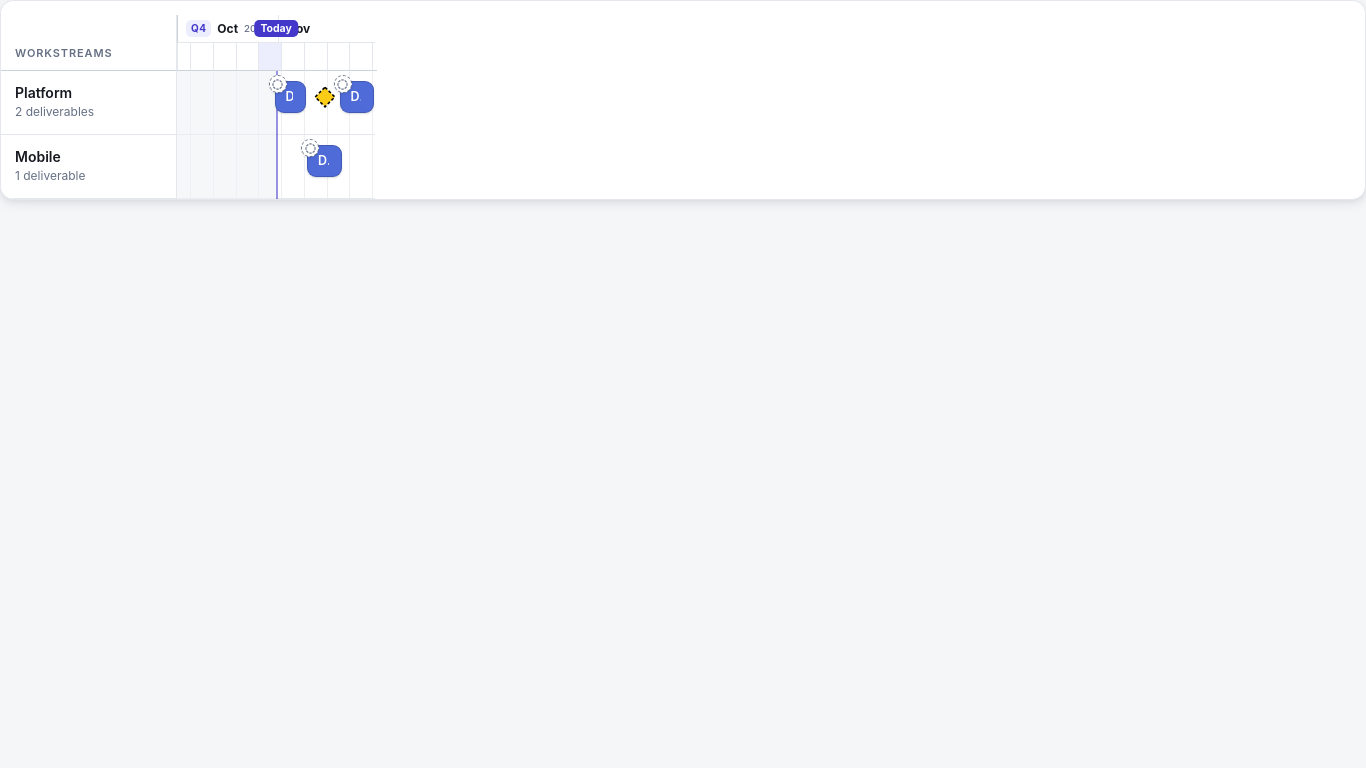
Test case: dragging with pointer events › REQ_API_051 REQ_FE_062 a drag the server refuses snaps back and says why: its row_overlap message, or the 3-year message for span_exceeded
Press the mouse on the button named "Beta · Planned": (325, 97) left=314, top=86, right=336, bottom=108
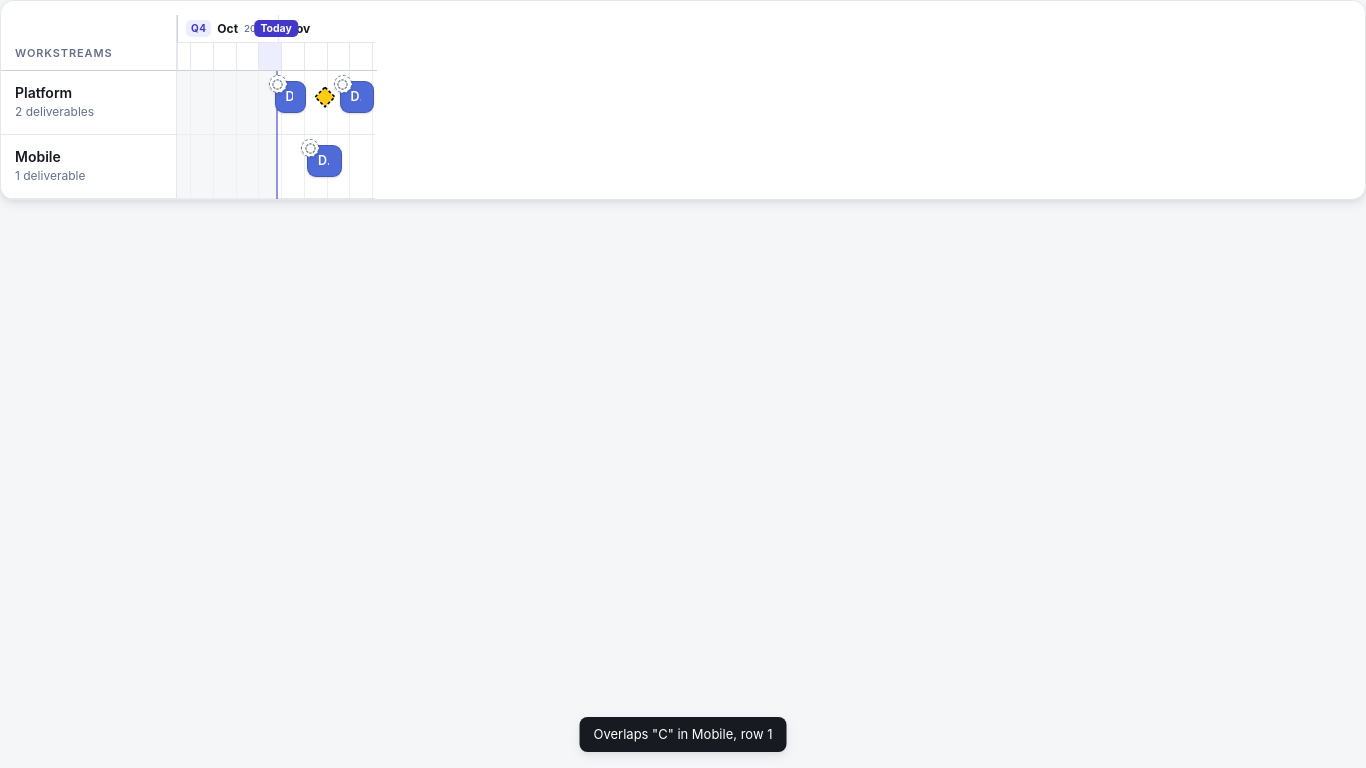
Expected: the message with class "tl-notice" reads "Overlaps \"C\" in Mobile, row 1", left=594, top=726, right=772, bottom=742
Press the mouse on the button named "Beta · Planned": (325, 97) left=314, top=86, right=336, bottom=108
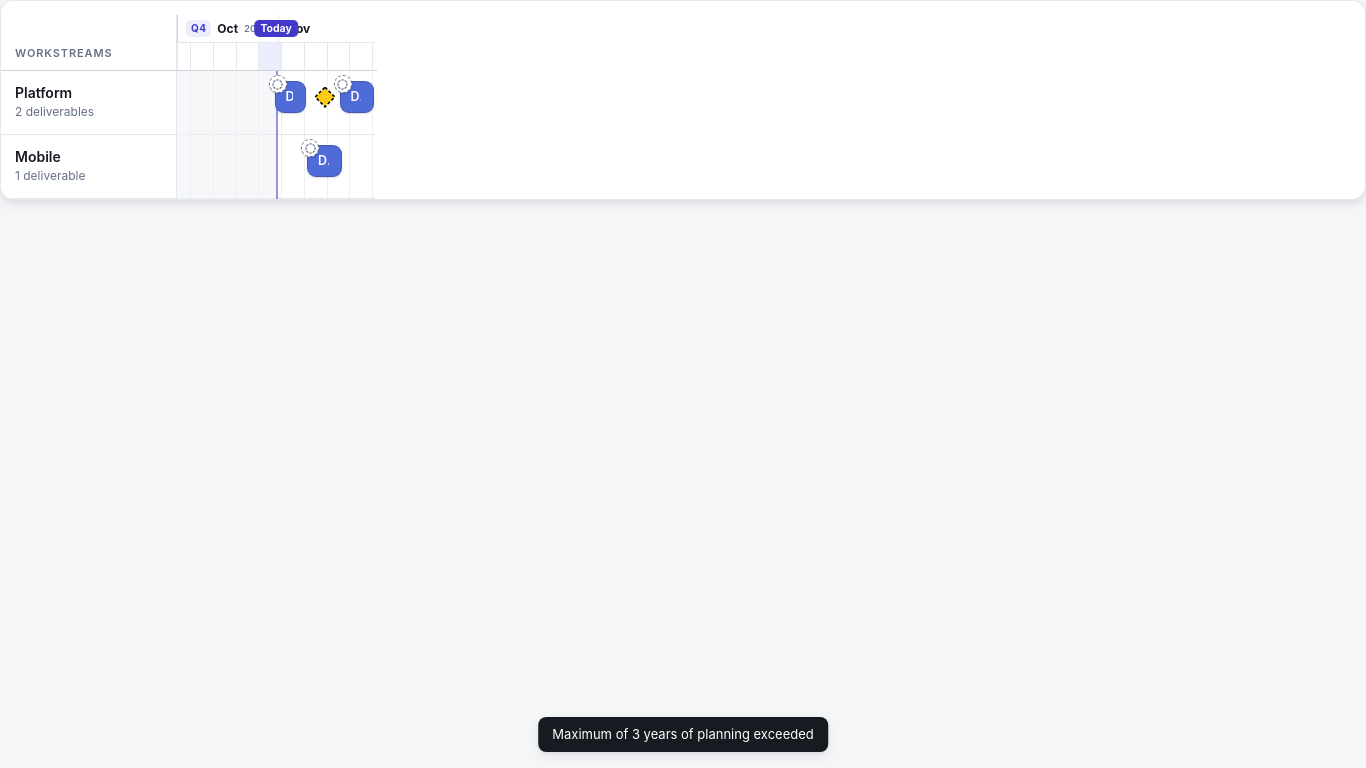
Expected: the message with class "tl-notice" reads "Maximum of 3 years of planning exceeded", left=552, top=726, right=814, bottom=742
